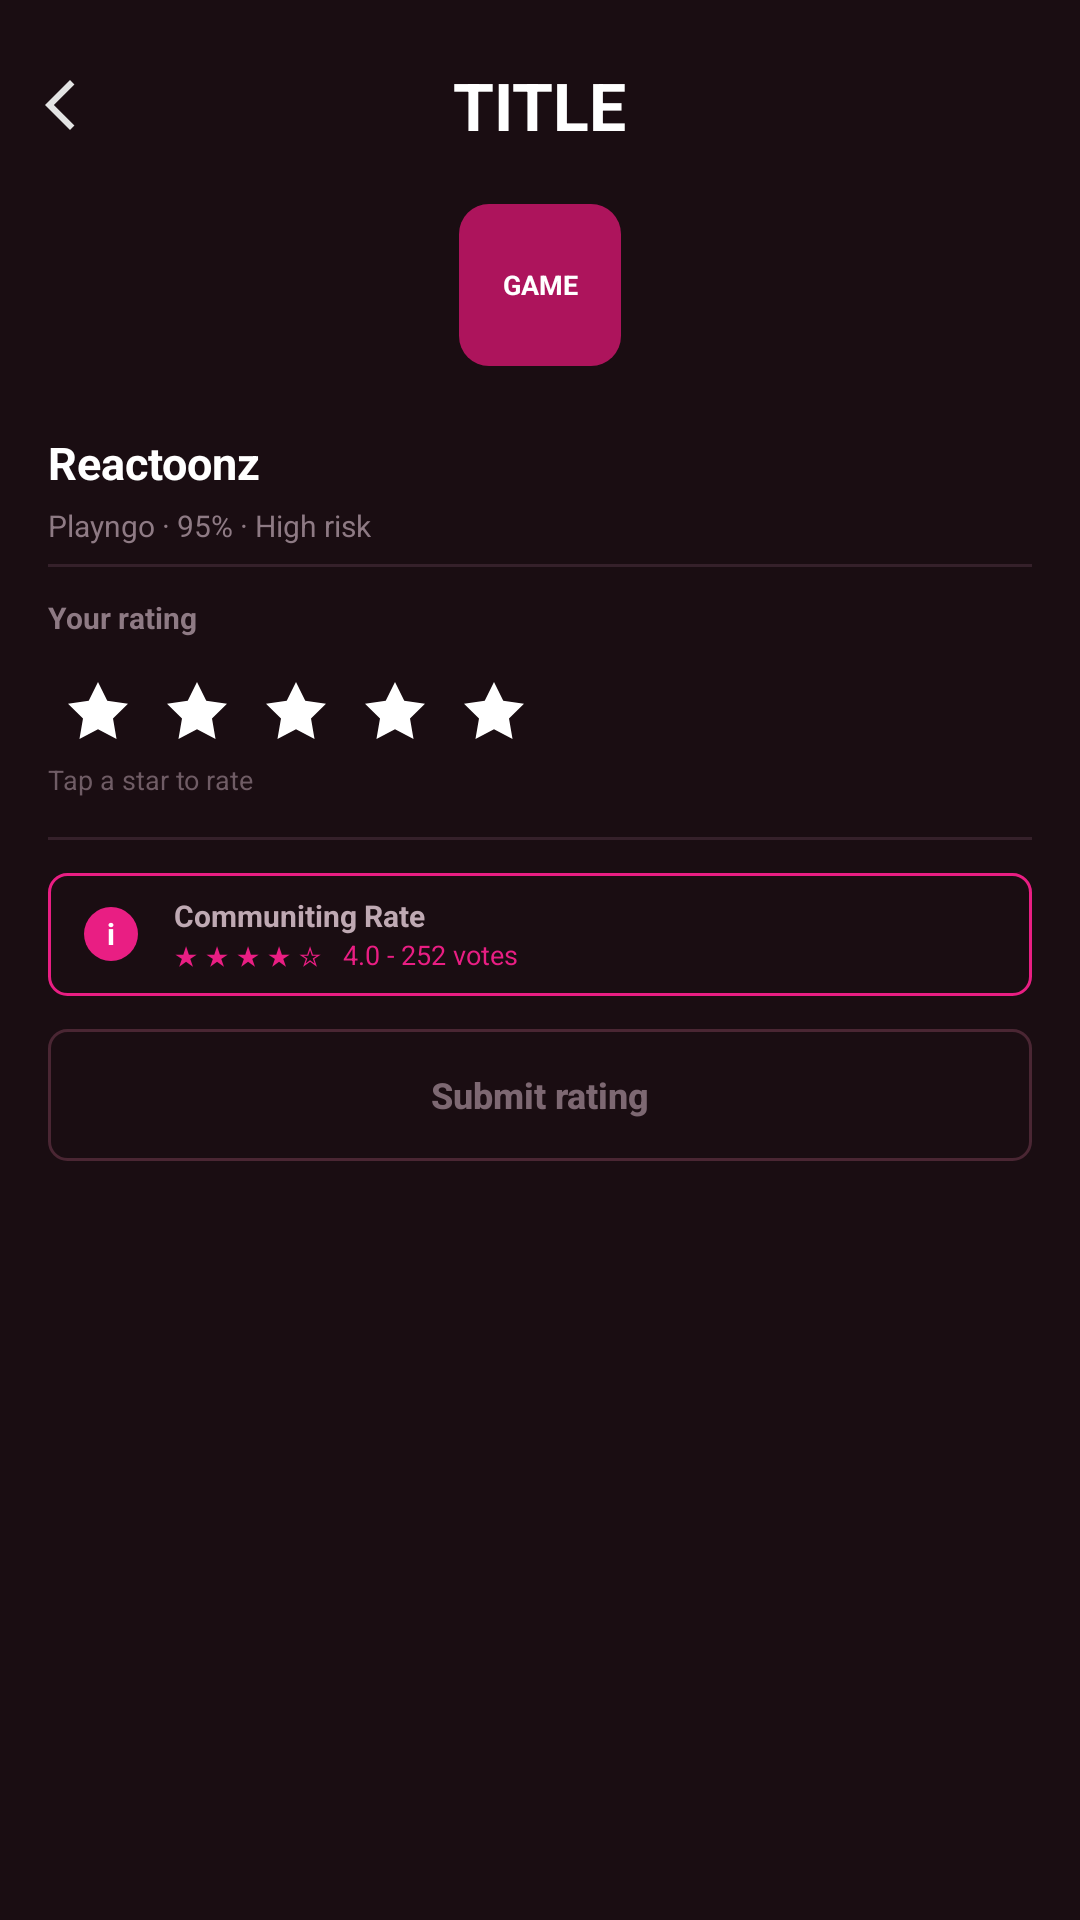

Named icons in this screenshot (1080w x 1920h) and their centers, (x=x, y=y):
Back: (x=60, y=105)
